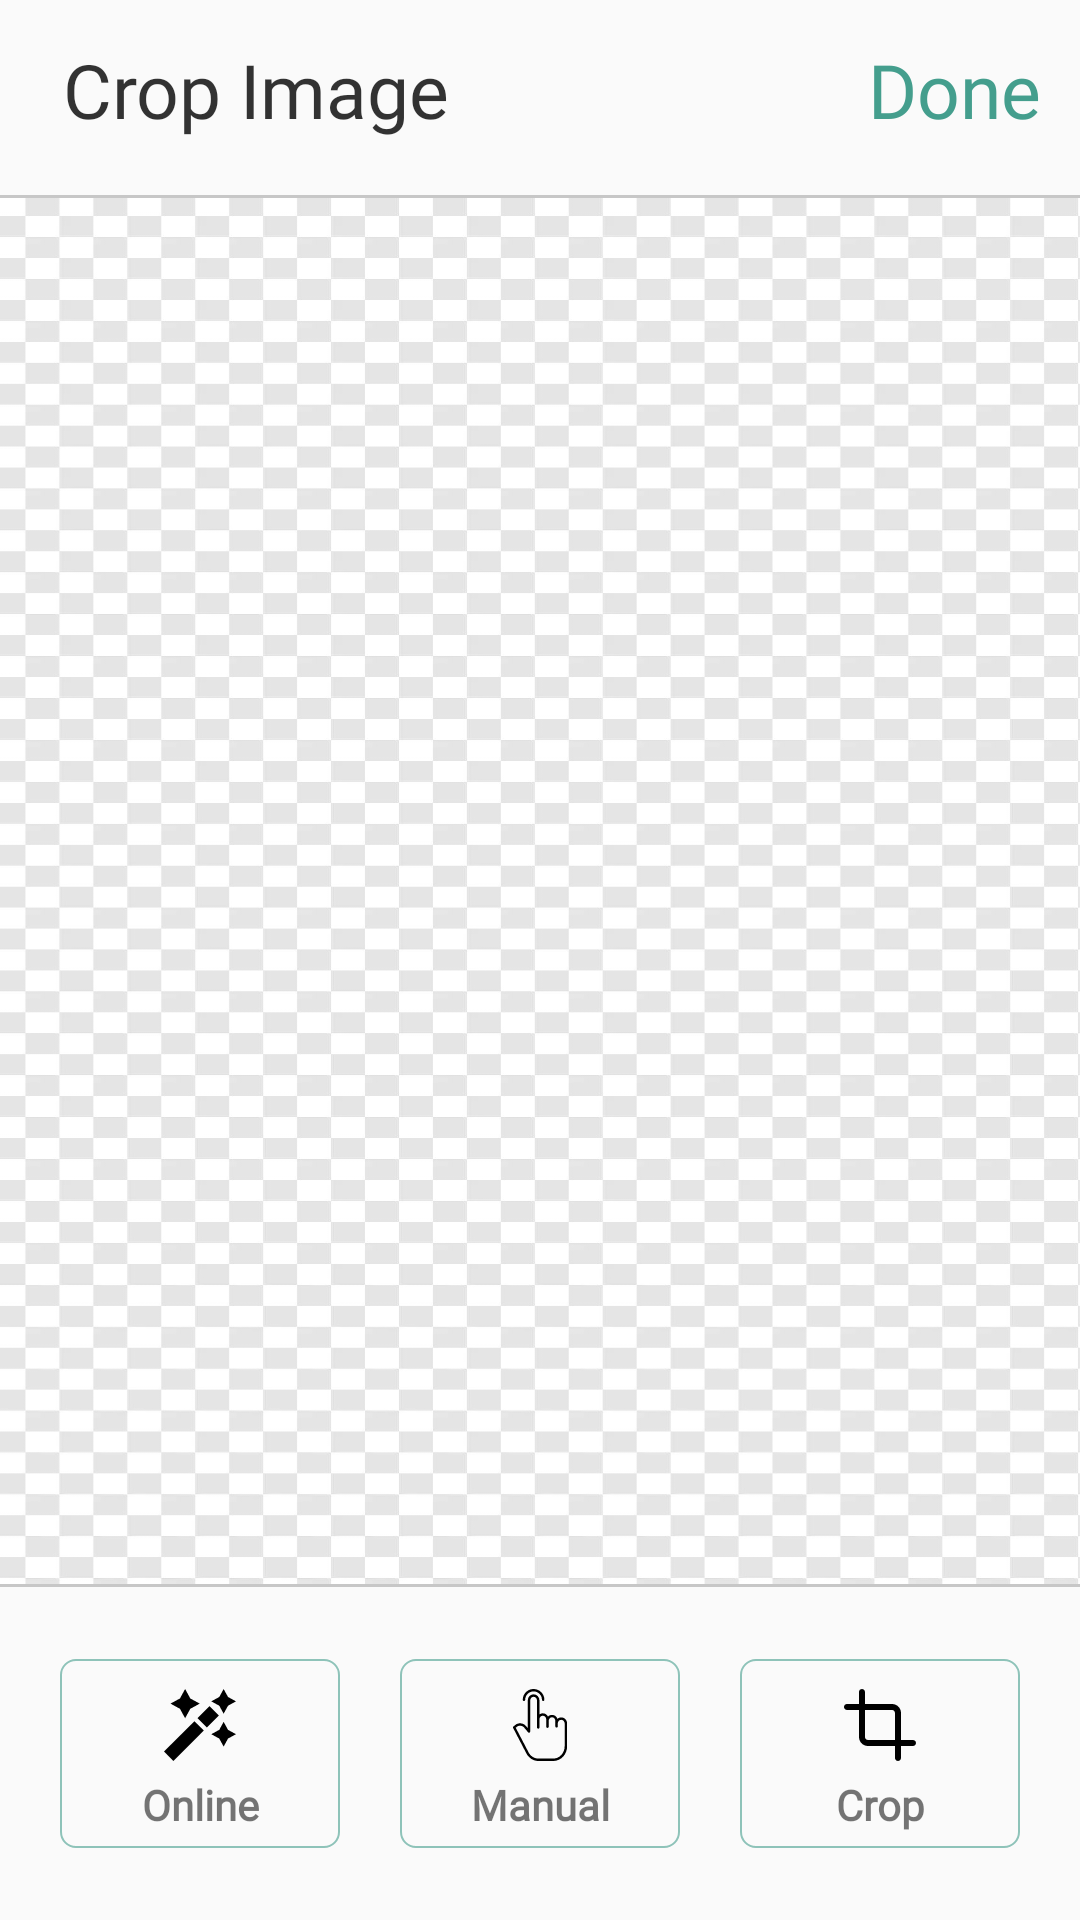

Point at icon controls on the screen. Image size 1080×1920, points as point (x, y).
magic wand: point (200, 1725)
